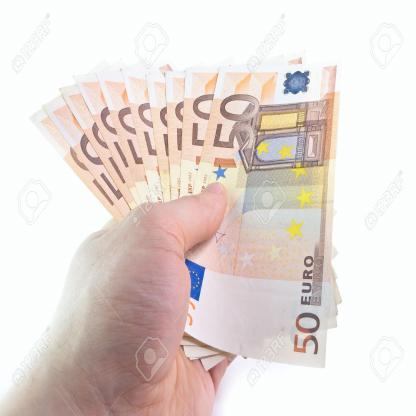billete: (27, 46, 343, 372)
